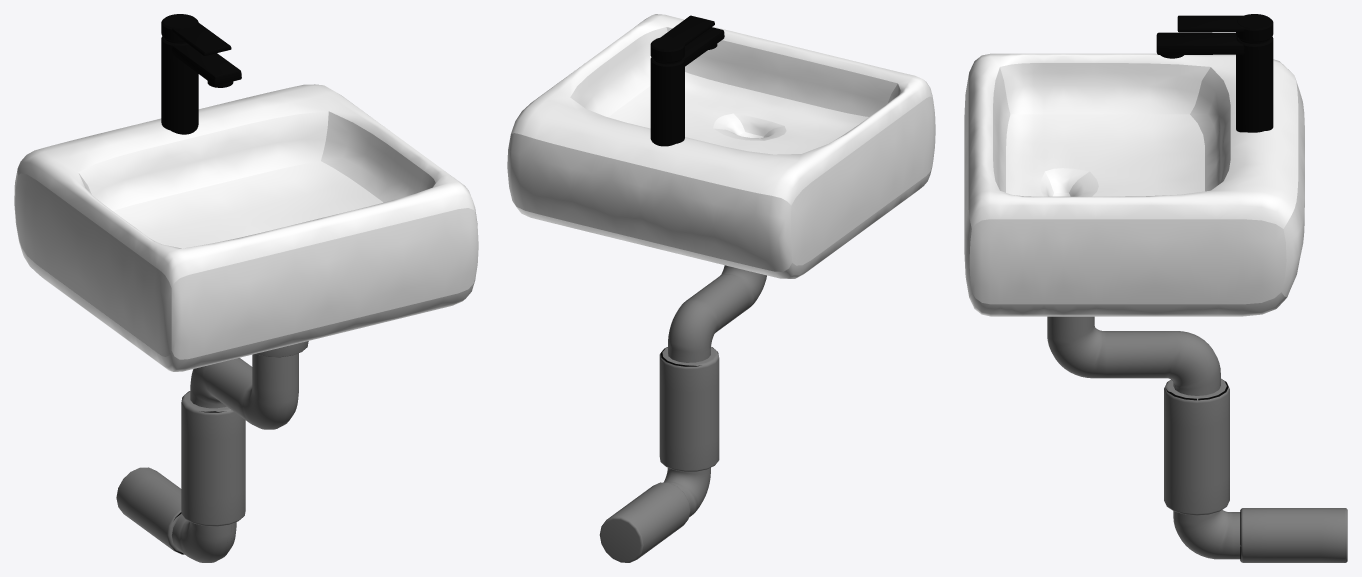
File: Sink.fbx
3 renders of one model, left to right at view 1: azimuth 30°, elevation 25°; view 2: azimuth 150°, elevation 25°; view 3: azimuth 270°, elevation 25°, orthographic. The views are drawn at different scales.
Visible parts, largest first — view 1: Basin, Pipes, Tap; view 2: Basin, Pipes, Tap; view 3: Basin, Pipes, Tap.
Part boxes in pixels (left/top/right/bottom): Basin: left=14, top=84, right=478, bottom=371; Pipes: left=116, top=341, right=308, bottom=562; Tap: left=161, top=14, right=241, bottom=134; Basin: left=507, top=14, right=935, bottom=278; Pipes: left=599, top=265, right=766, bottom=562; Tap: left=650, top=15, right=724, bottom=146; Basin: left=964, top=53, right=1304, bottom=316; Pipes: left=1047, top=316, right=1347, bottom=562; Tap: left=1156, top=14, right=1273, bottom=132.
Size of the model in its own units: 83.07 by 134 by 86.86.
Materials: 3 (2 with a texture image).
